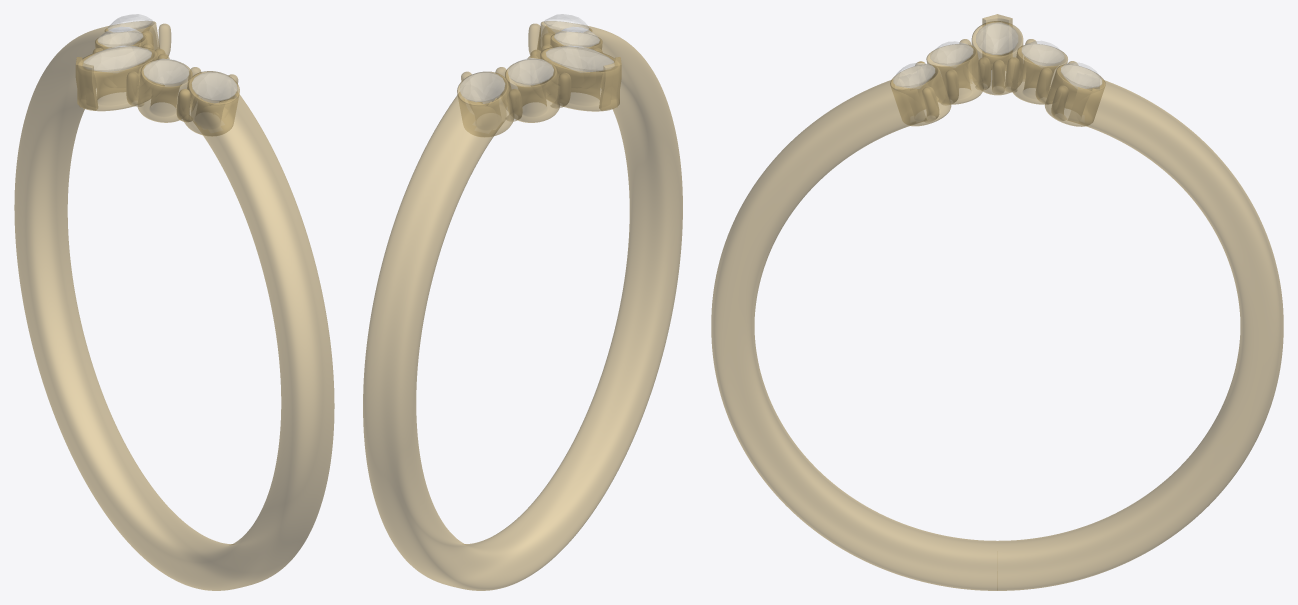
3 renders of one model, left to right at view 1: azimuth 30°, elevation 25°; view 2: azimuth 150°, elevation 25°; view 3: azimuth 270°, elevation 25°, orthographic.
Visible parts, largest first — view 1: Ring, Diamond; view 2: Ring, Diamond; view 3: Ring, Diamond.
Part boxes in pixels (x1,y1,x2,y2): Ring: [14, 21, 334, 590]; Diamond: [83, 14, 236, 100]; Ring: [363, 21, 682, 590]; Diamond: [460, 14, 614, 101]; Ring: [711, 14, 1283, 590]; Diamond: [893, 22, 1101, 88].
Bounding box in the file's own units: 0.5707 × 2.27 × 2.24.
